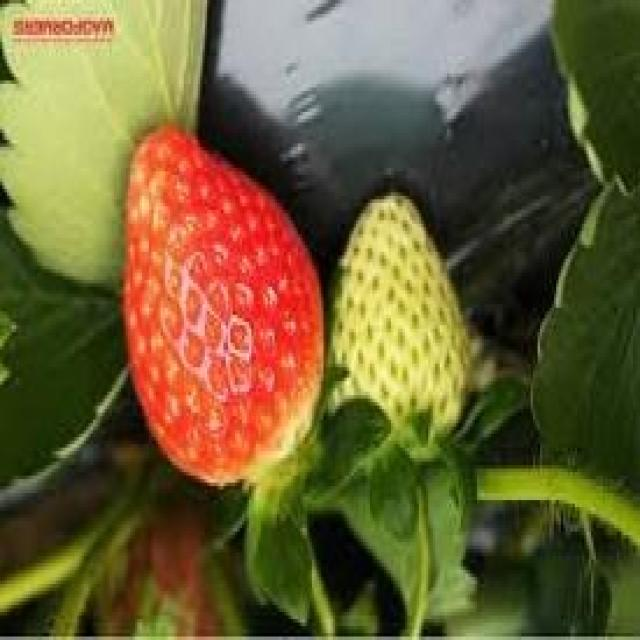immature: (326, 194, 468, 452)
mature: (121, 126, 323, 486)
